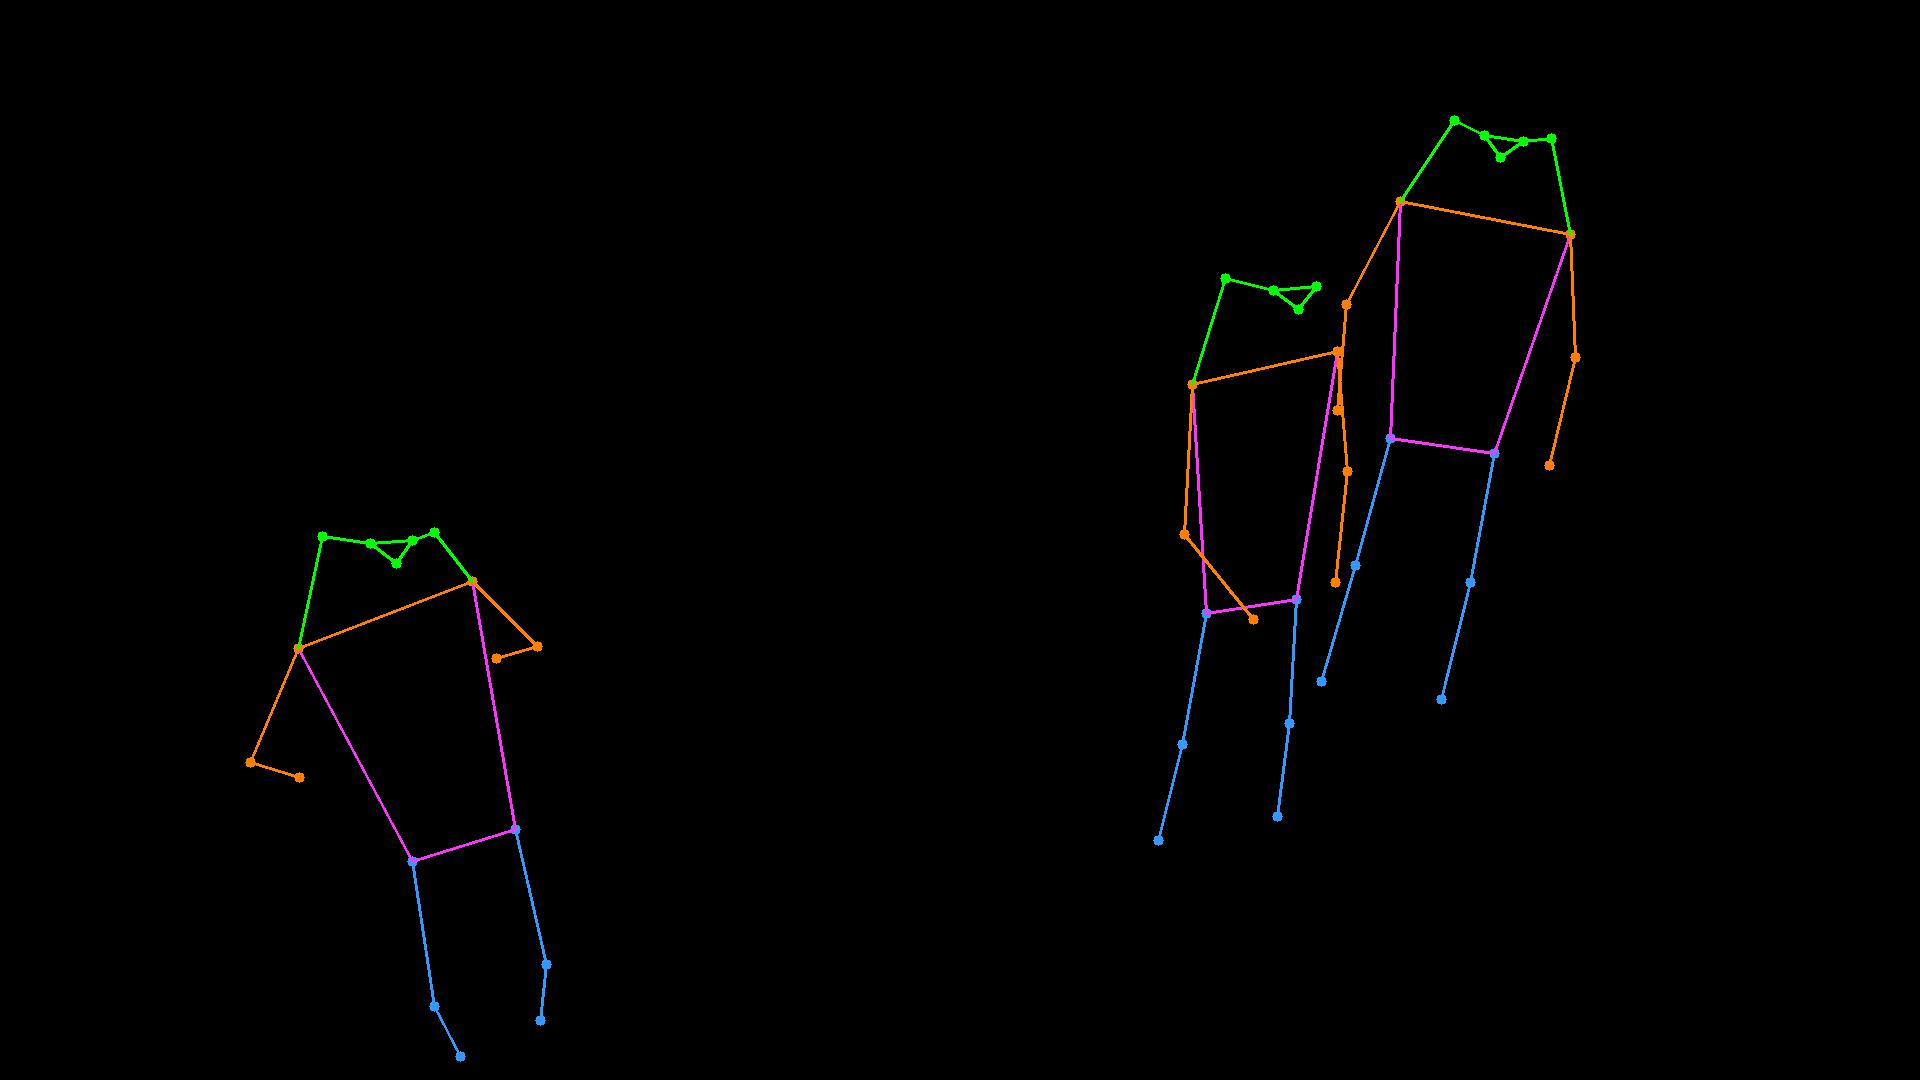normal: (1104, 78, 1626, 891), (190, 508, 642, 1080)
